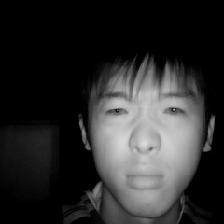normal: (74, 43, 224, 217)
